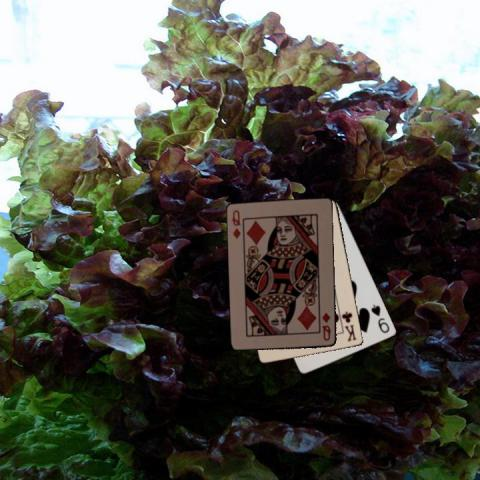9s: (368, 301, 391, 335)
Kc: (339, 308, 358, 342)
Qd: (229, 207, 242, 240), (319, 310, 332, 342)
